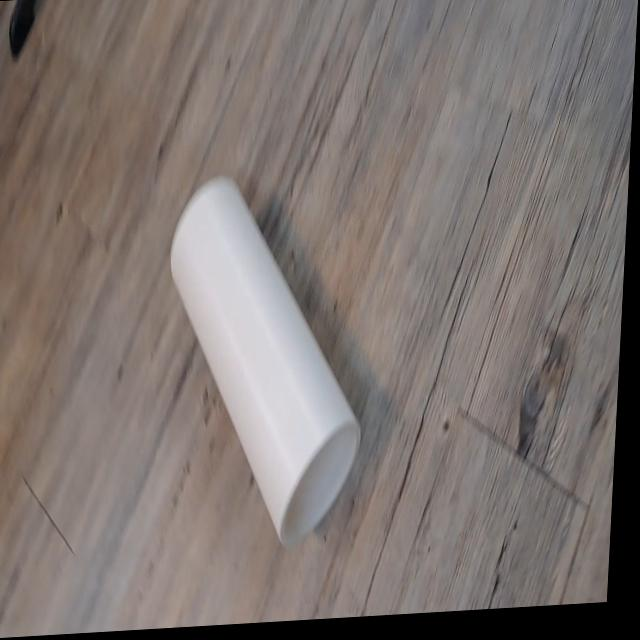CORAL: (150, 143, 388, 558)
